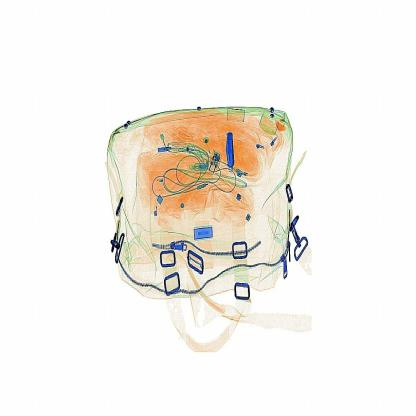knife: (222, 127, 240, 177)
